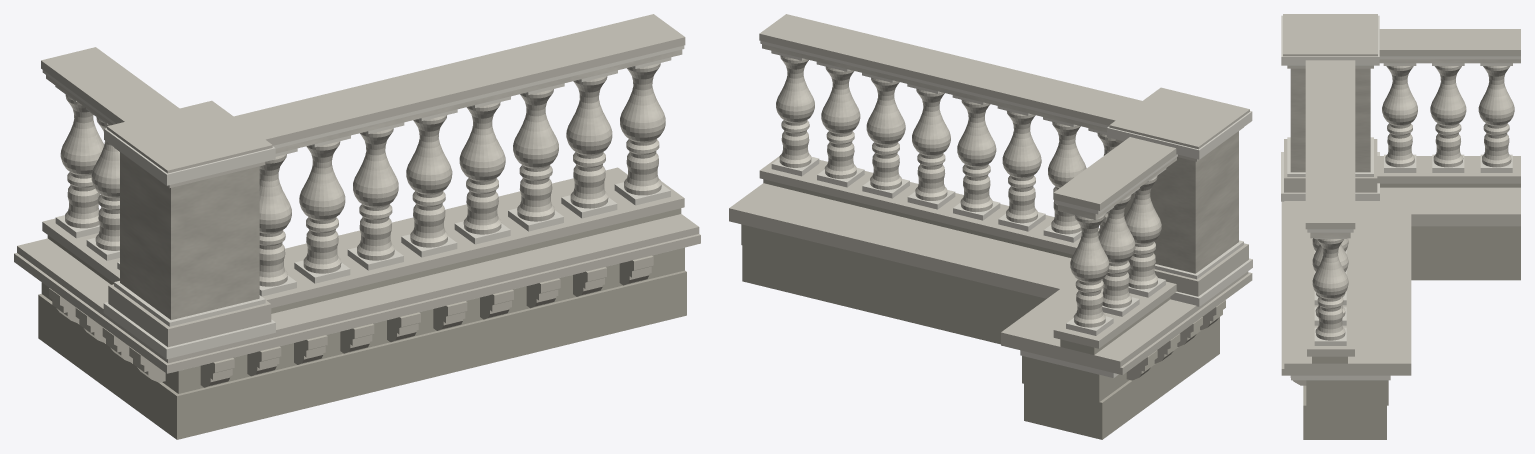
Rendered from kangping-terrace-near.glb.
3 views of the same model, side by side, from view 1: azimuth 30°, elevation 25°; view 2: azimuth 150°, elevation 25°; view 3: azimuth 270°, elevation 25° (orthographic). The views are drawn at different scales.
Parts seen in each view (by area): view 1: 康平路205号花园住宅露台瓶栏与檐托; view 2: 康平路205号花园住宅露台瓶栏与檐托; view 3: 康平路205号花园住宅露台瓶栏与檐托.
Part boxes in pixels (bbox=[...]): 康平路205号花园住宅露台瓶栏与檐托: bbox=[14, 14, 700, 439]; 康平路205号花园住宅露台瓶栏与檐托: bbox=[729, 14, 1252, 439]; 康平路205号花园住宅露台瓶栏与檐托: bbox=[1281, 14, 1520, 439].
Bounding box in the file's own units: 2.57 × 1.31 × 1.28.
Materials: 6 (2 with a texture image).
